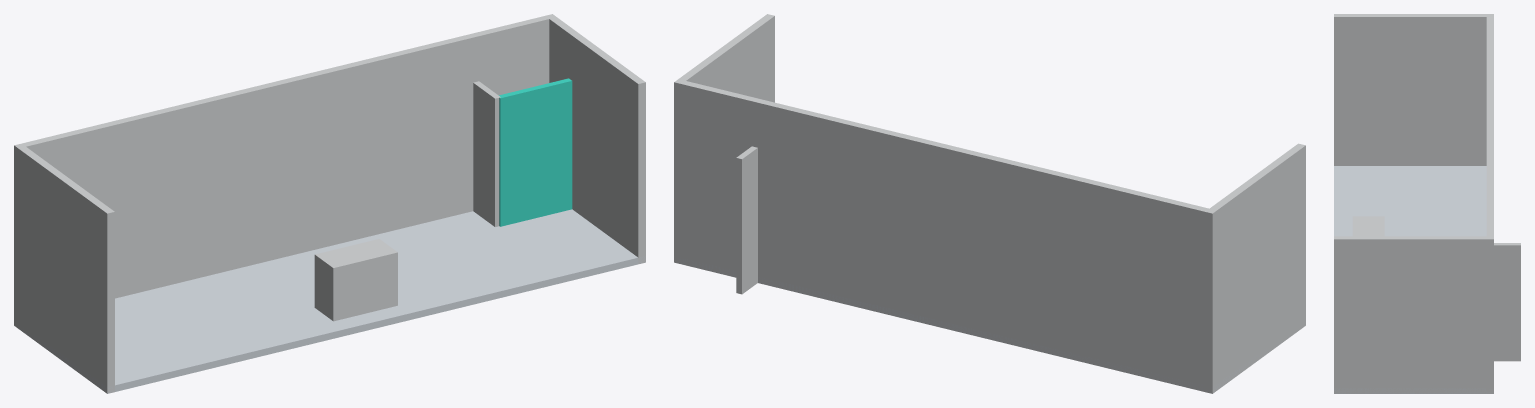
3 renders of one model, left to right at view 1: azimuth 30°, elevation 25°; view 2: azimuth 150°, elevation 25°; view 3: azimuth 270°, elevation 25°, orthographic. The views are drawn at different scales.
Parts seen in each view (by area): view 1: Exhibition Booth Concept; view 2: Exhibition Booth Concept; view 3: Exhibition Booth Concept.
Boxes of the visible parts, x1,y1,x2,y2 form: Exhibition Booth Concept: (14,14,645,393); Exhibition Booth Concept: (674,14,1305,393); Exhibition Booth Concept: (1334,14,1520,393).
Size of the model in its own units: 10 by 3.2 by 3.51.
